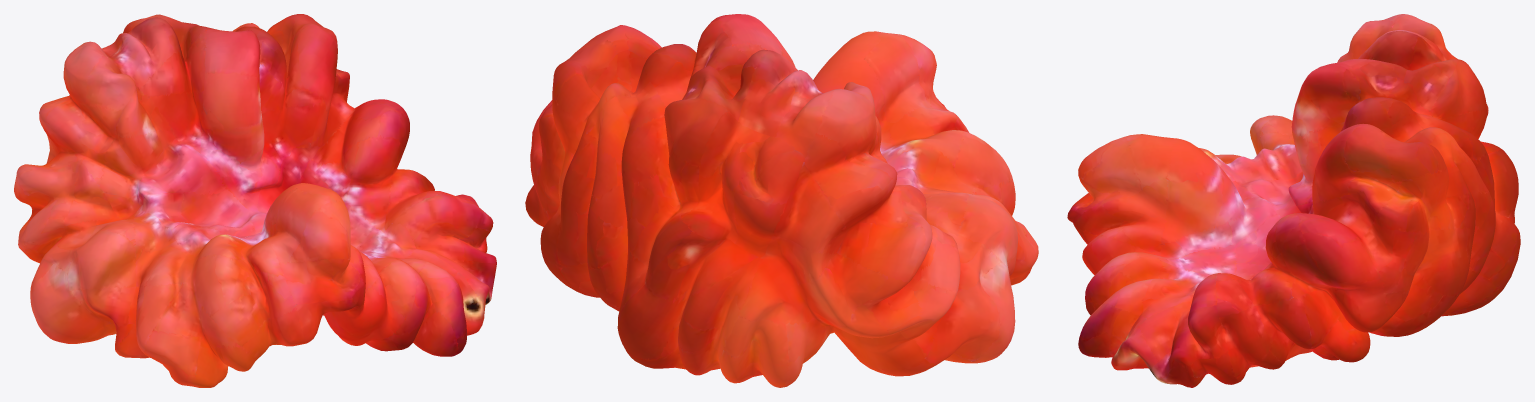
Rendered from fungia.glb.
The picture shows the model from 3 angles, left to right: view 1: azimuth 30°, elevation 25°; view 2: azimuth 150°, elevation 25°; view 3: azimuth 270°, elevation 25°; orthographic projection. The views are drawn at different scales.
Size of the model in its own units: 1.9 by 1.15 by 1.86.
Materials: 1 (1 with a texture image).
